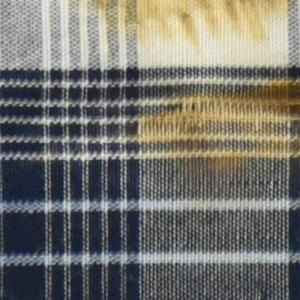Oil Stain: (118, 74, 300, 219), (68, 1, 299, 60)
